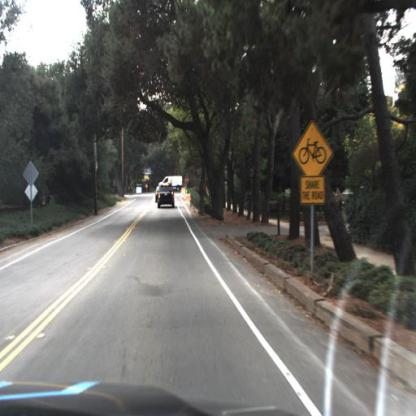car: (157, 183, 178, 213), (154, 186, 161, 206)
truck: (165, 174, 187, 193)
